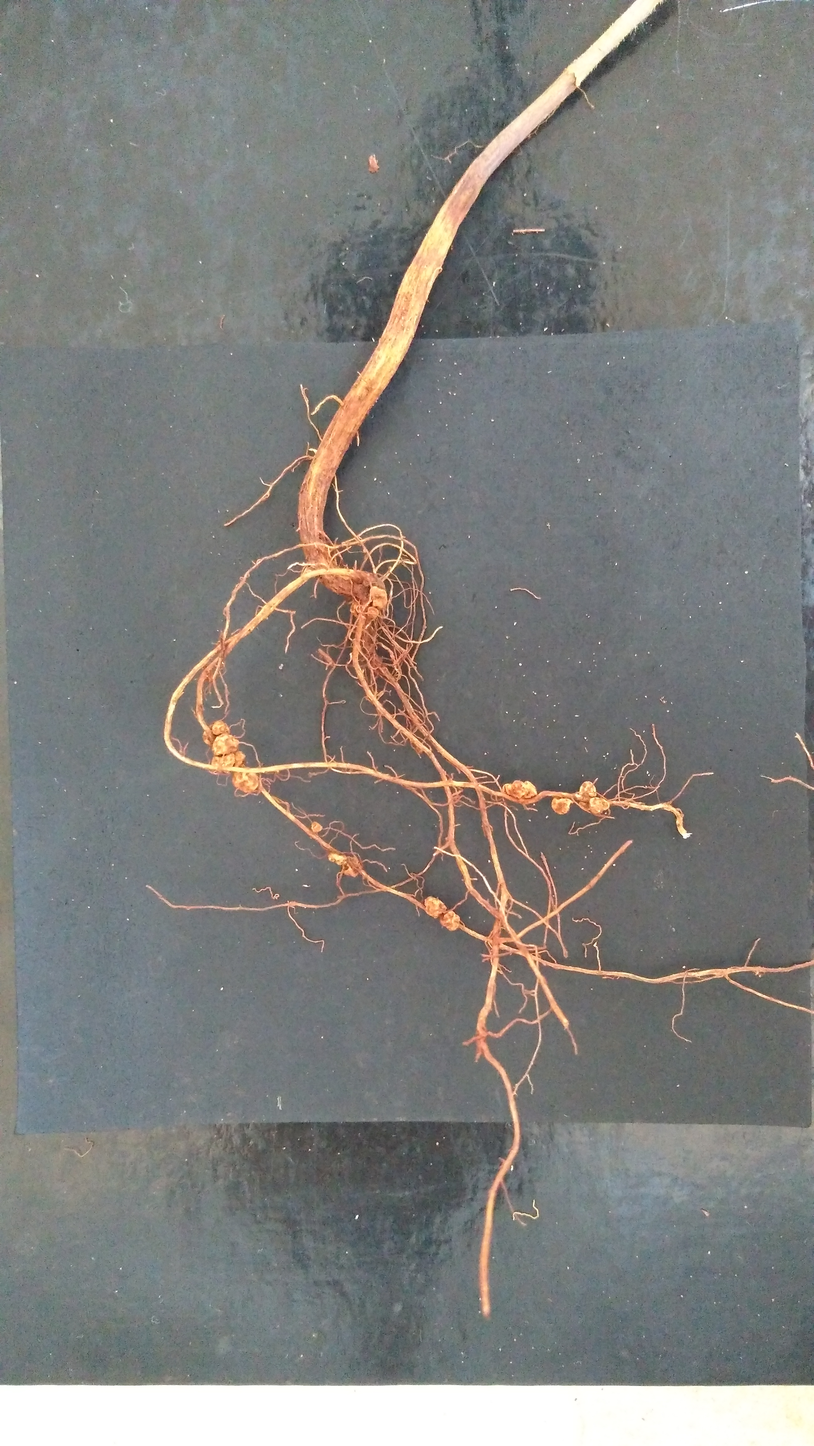nodule: (502, 780, 537, 801), (232, 767, 259, 793), (212, 733, 239, 755), (579, 781, 596, 811), (424, 896, 447, 918), (342, 855, 362, 878), (212, 753, 235, 773), (440, 910, 460, 931), (370, 586, 387, 609), (588, 797, 610, 814), (551, 796, 570, 814), (202, 724, 219, 744), (350, 597, 363, 619), (328, 851, 347, 865), (212, 721, 230, 735), (234, 751, 246, 768), (367, 606, 380, 619), (311, 822, 323, 833), (362, 548, 367, 553), (387, 566, 392, 570)
